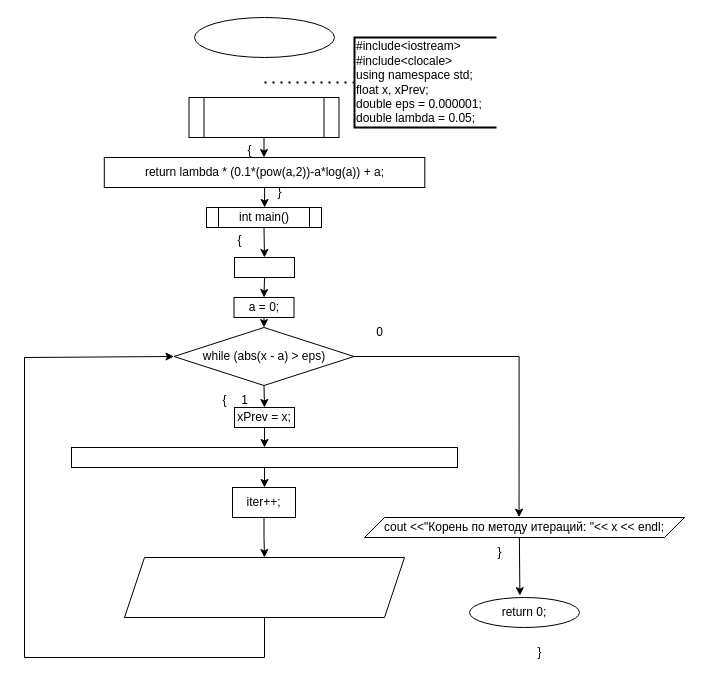
The diagram is 702 pixels wide and 685 high, and some of its shapes have lost their labels. The centre of each missing label's shape, as x and y in pixels:
cout<<"Итерация"<<iter<<":x= "<< a<< endl;: the point at 264,587
double fi(double a): the point at 263,117
x = 2;: the point at 264,267
x = fi(a);: the point at 264,457
Начало: the point at 264,37
